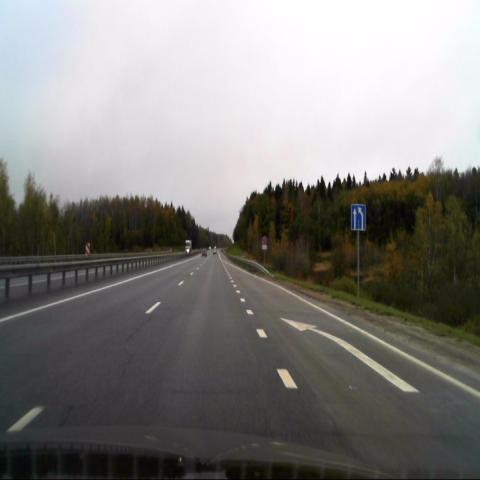5_15_5: (351, 204, 366, 230)
